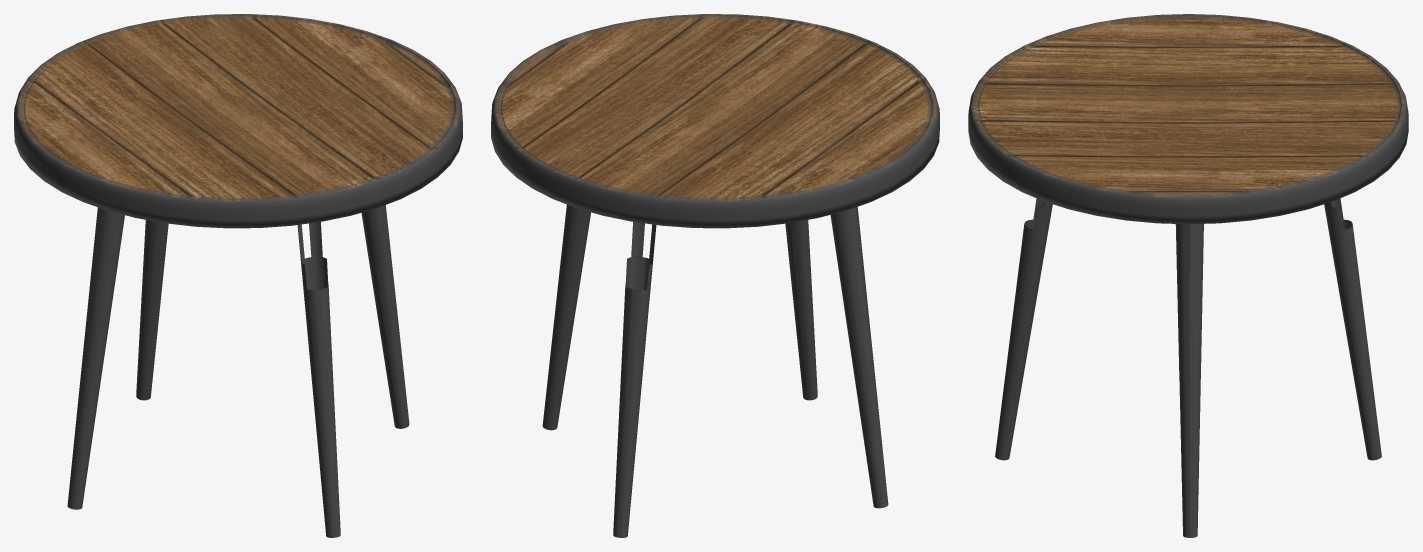
Rendered from Table_Liminal_FBX1.fbx.
The picture shows the model from 3 angles, left to right: view 1: azimuth 30°, elevation 25°; view 2: azimuth 150°, elevation 25°; view 3: azimuth 270°, elevation 25°; orthographic projection. The views are drawn at different scales.
Visible parts, largest first — view 1: pCylinder1, pCylinder4, pCylinder3; view 2: pCylinder1, pCylinder4, pCylinder3; view 3: pCylinder1, pCylinder3, pCylinder4.
Part boxes in pixels (x1=…): pCylinder1: x1=14, y1=14, x2=462, y2=228; pCylinder4: x1=67, y1=205, x2=409, y2=509; pCylinder3: x1=136, y1=220, x2=340, y2=537; pCylinder1: x1=491, y1=14, x2=939, y2=228; pCylinder4: x1=542, y1=204, x2=888, y2=508; pCylinder3: x1=613, y1=220, x2=817, y2=537; pCylinder1: x1=968, y1=14, x2=1408, y2=224; pCylinder3: x1=995, y1=198, x2=1381, y2=460; pCylinder4: x1=1175, y1=224, x2=1203, y2=537.
Size of the model in its own units: 6.87 by 6.07 by 6.87.
1 material, 1 textured.
